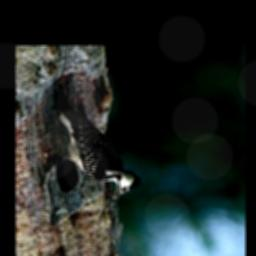Woodpecker: (55, 84, 142, 201)
